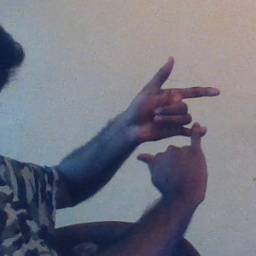S: (125, 54, 236, 192)
